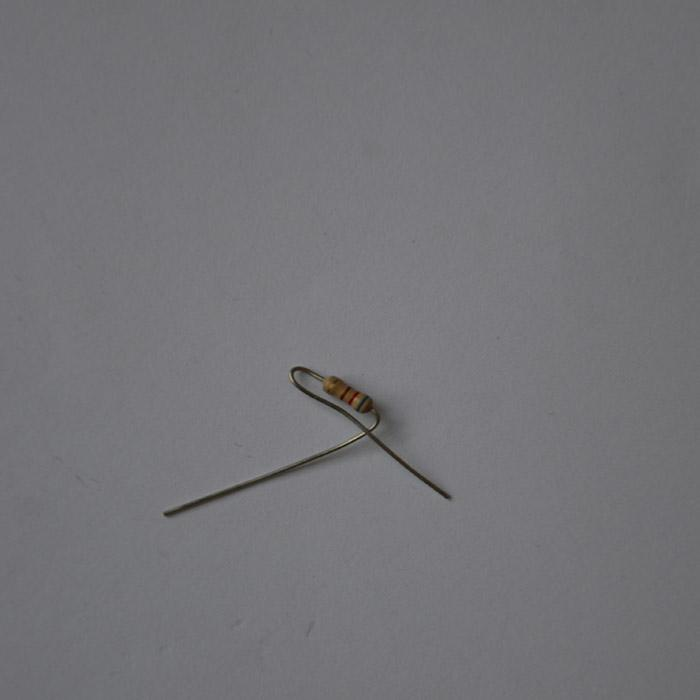resistor: (312, 370, 374, 414)
